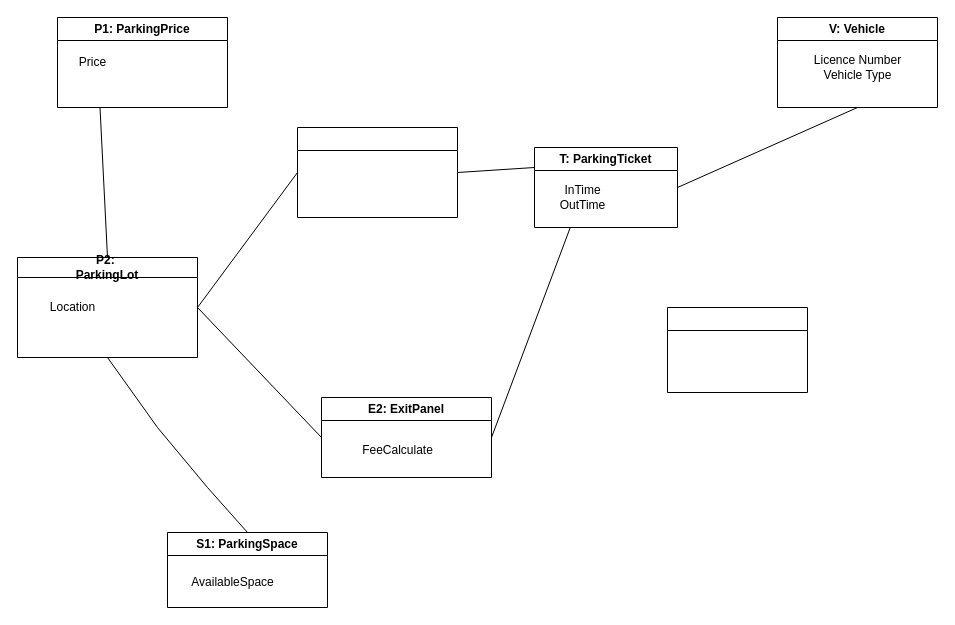
Image size: 955x625. Some labels were removed from this diagram. Each missing label, with the centre of its shape:
"A: Account" goes at [737,349].
"E1: EntrancePanel" goes at [377,172].
